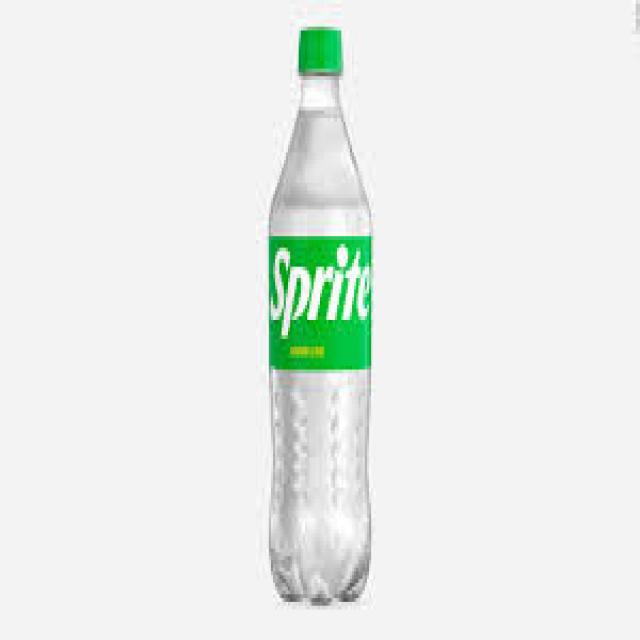Plastico: (264, 25, 378, 600)
